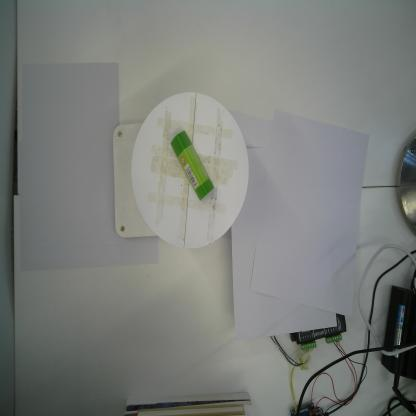Stationery: (169, 129, 215, 202)
